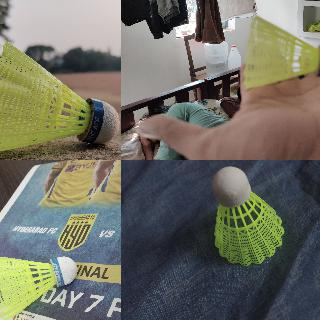shuttlecock: (0, 39, 120, 156), (212, 167, 284, 266), (243, 16, 319, 91), (0, 254, 78, 319)
